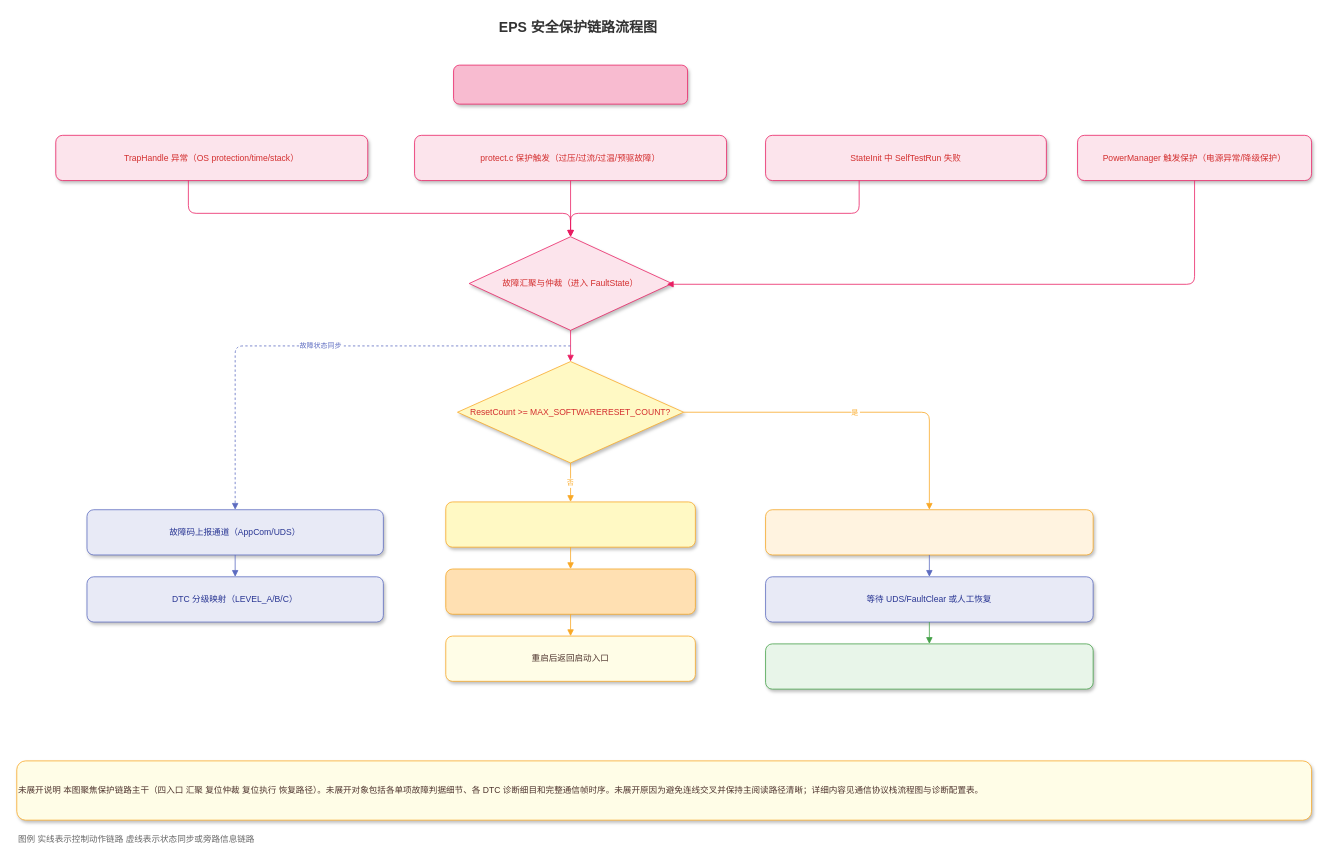
This 1330x860 diagram has some shape labels left out. Here are the shapes that lost their labels. From the top down, the centre of each, then its label:
At [571,85]: "异常入口分支（四入口细化）".
At [571,525]: "ControllerSoftwareResetWithLimit".
At [930,533]: "置位 ResetOverCount 故障并保持 FaultState".
At [571,592]: "IfxCpu_triggerSwReset".
At [930,667]: "故障清除后回 StateInit 重试".
